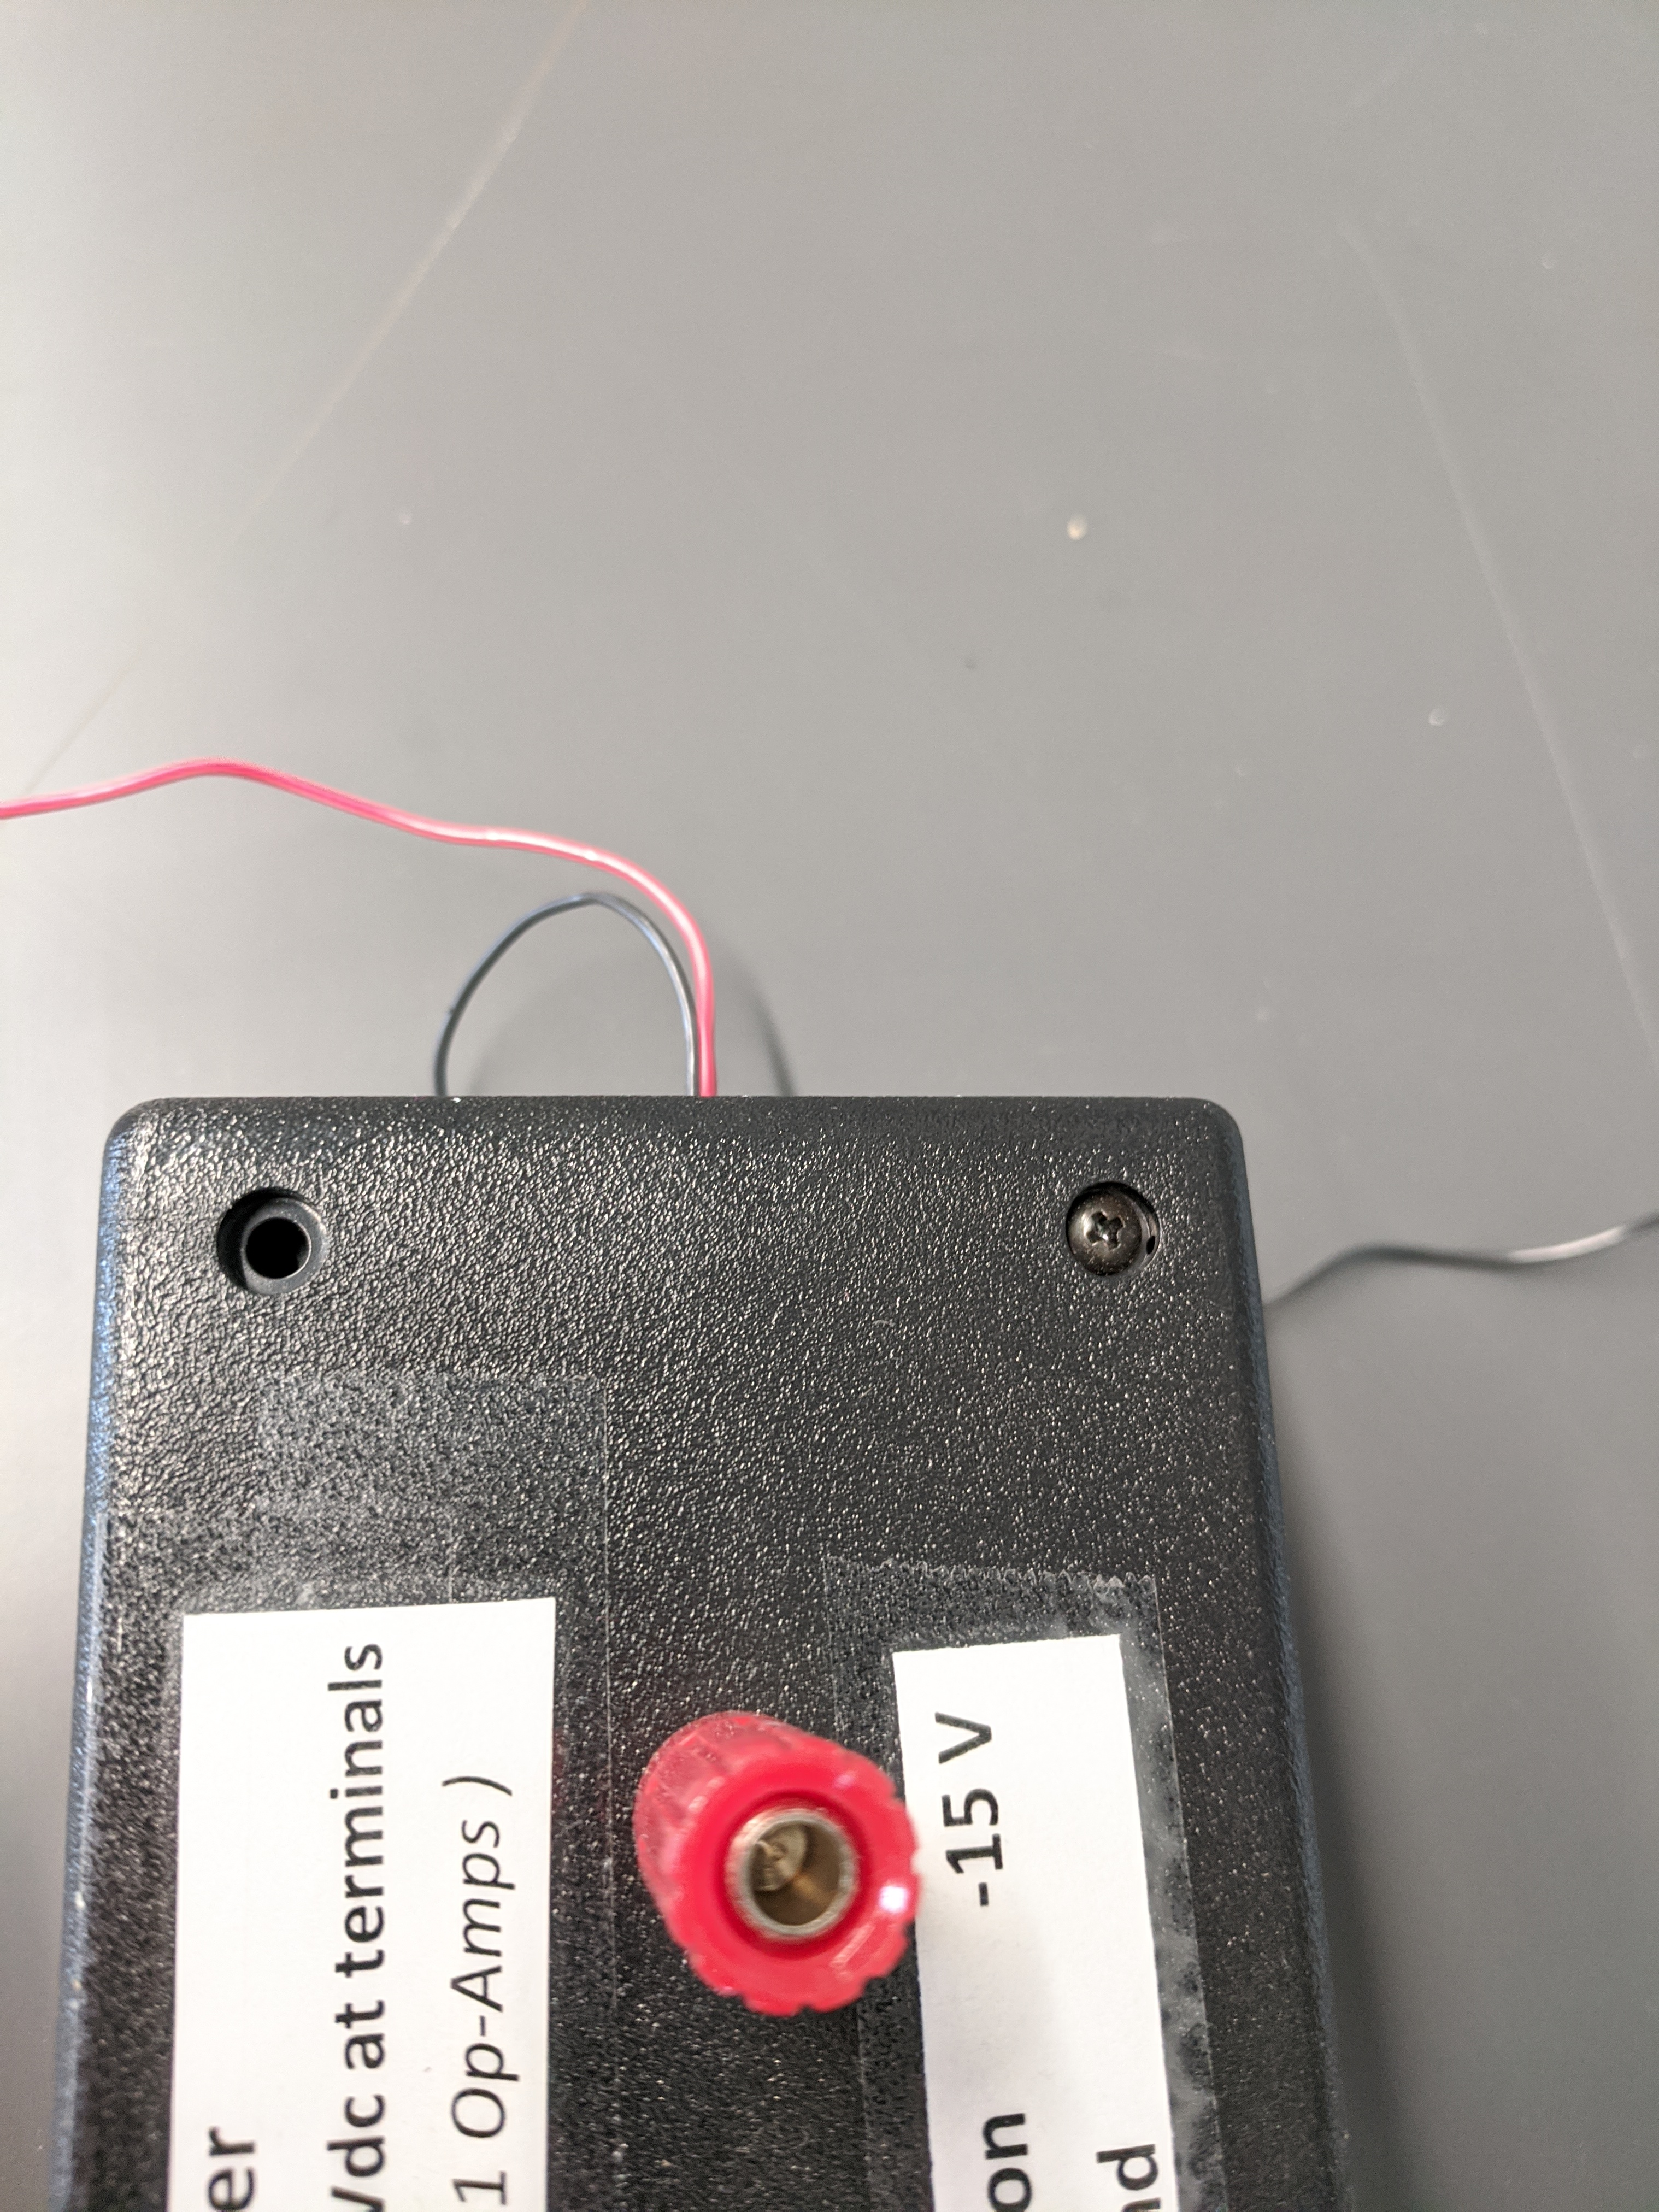cross_recessed_screw: (1061, 1169, 1152, 1285)
